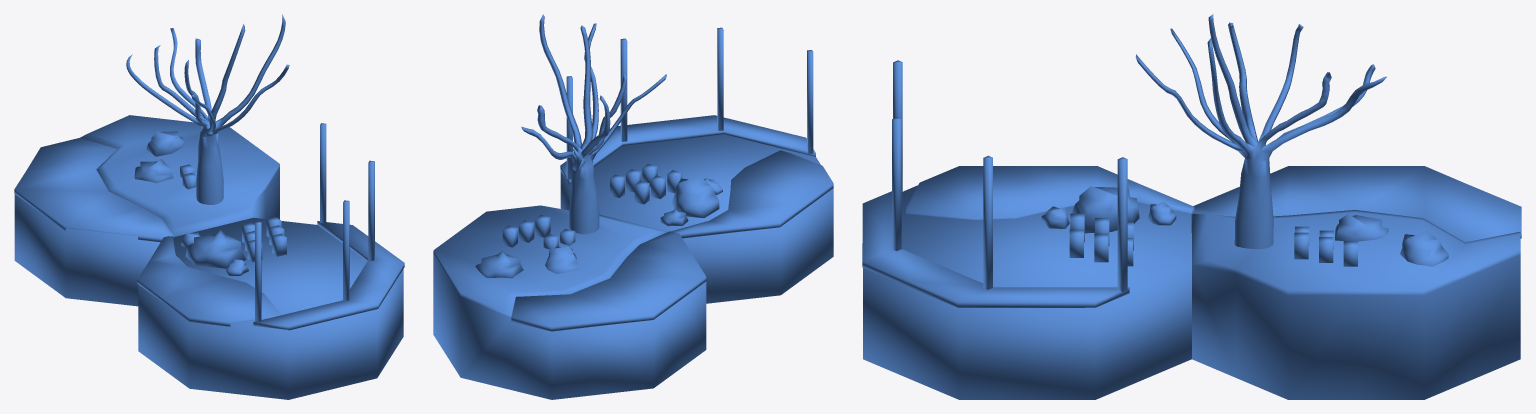
The model's file is Zoo_FlamingoEnclosure.fbx.
3 views of the same model, side by side, from view 1: azimuth 30°, elevation 25°; view 2: azimuth 150°, elevation 25°; view 3: azimuth 270°, elevation 25° (orthographic). The views are drawn at different scales.
Parts seen in each view (by area): view 1: Zoo_FlamingoEnclosure; view 2: Zoo_FlamingoEnclosure; view 3: Zoo_FlamingoEnclosure.
Boxes of the visible parts, <box> form: Zoo_FlamingoEnclosure: <box>14,14,404,399</box>; Zoo_FlamingoEnclosure: <box>433,14,833,399</box>; Zoo_FlamingoEnclosure: <box>862,14,1521,399</box>.
Bounding box in the file's own units: 631 × 729 × 1262.
